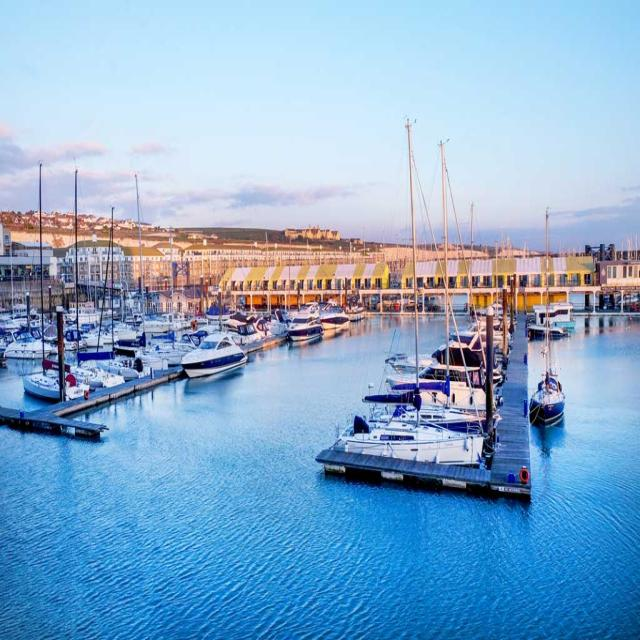houseboat: (183, 324, 244, 378), (528, 351, 564, 428), (287, 310, 321, 345), (319, 303, 349, 329)
